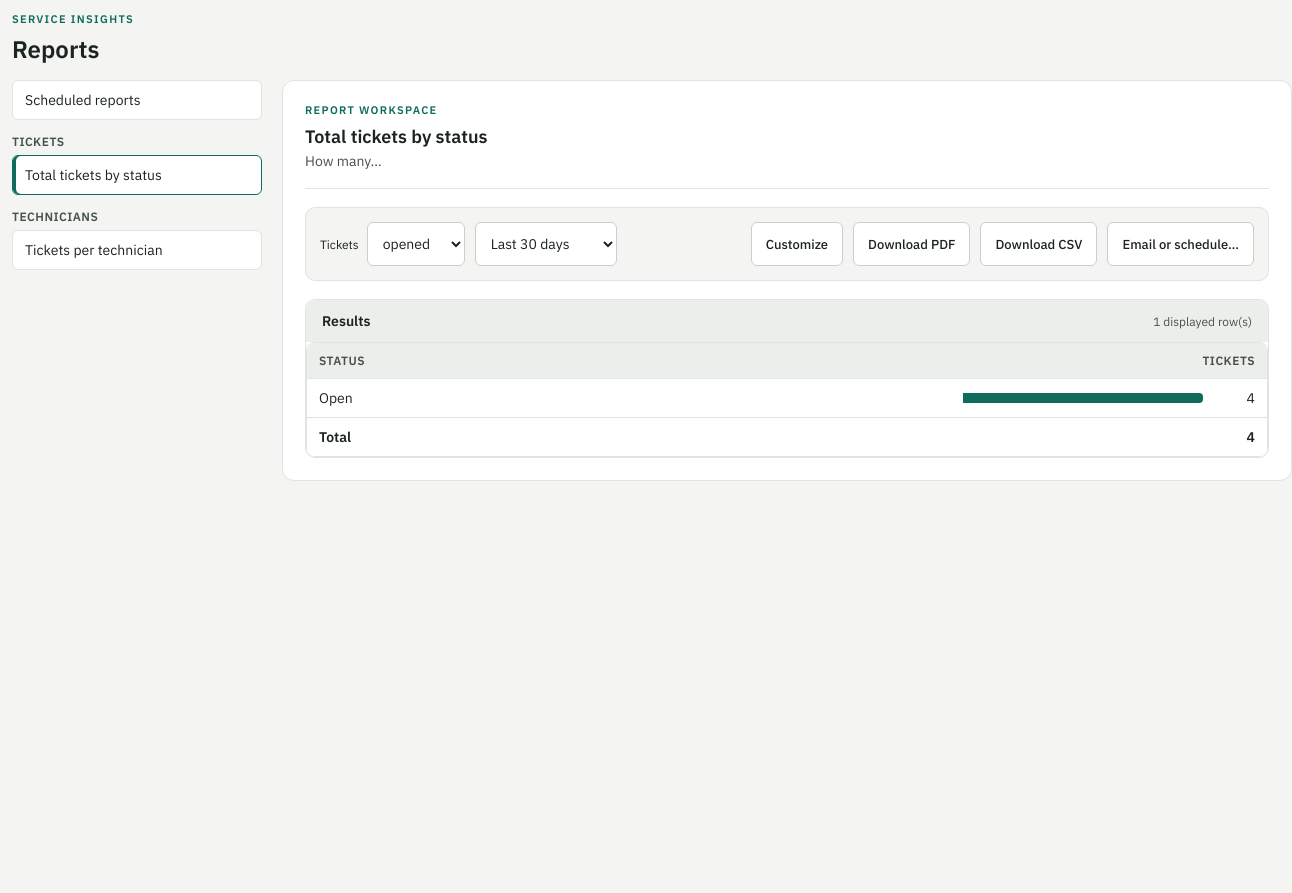
Test: email a report now to people picked or typed in
Expected: the table is shown, [307, 343, 1267, 456]
Click the button "Email or schedule…" at (1181, 244), box [1107, 222, 1254, 266]
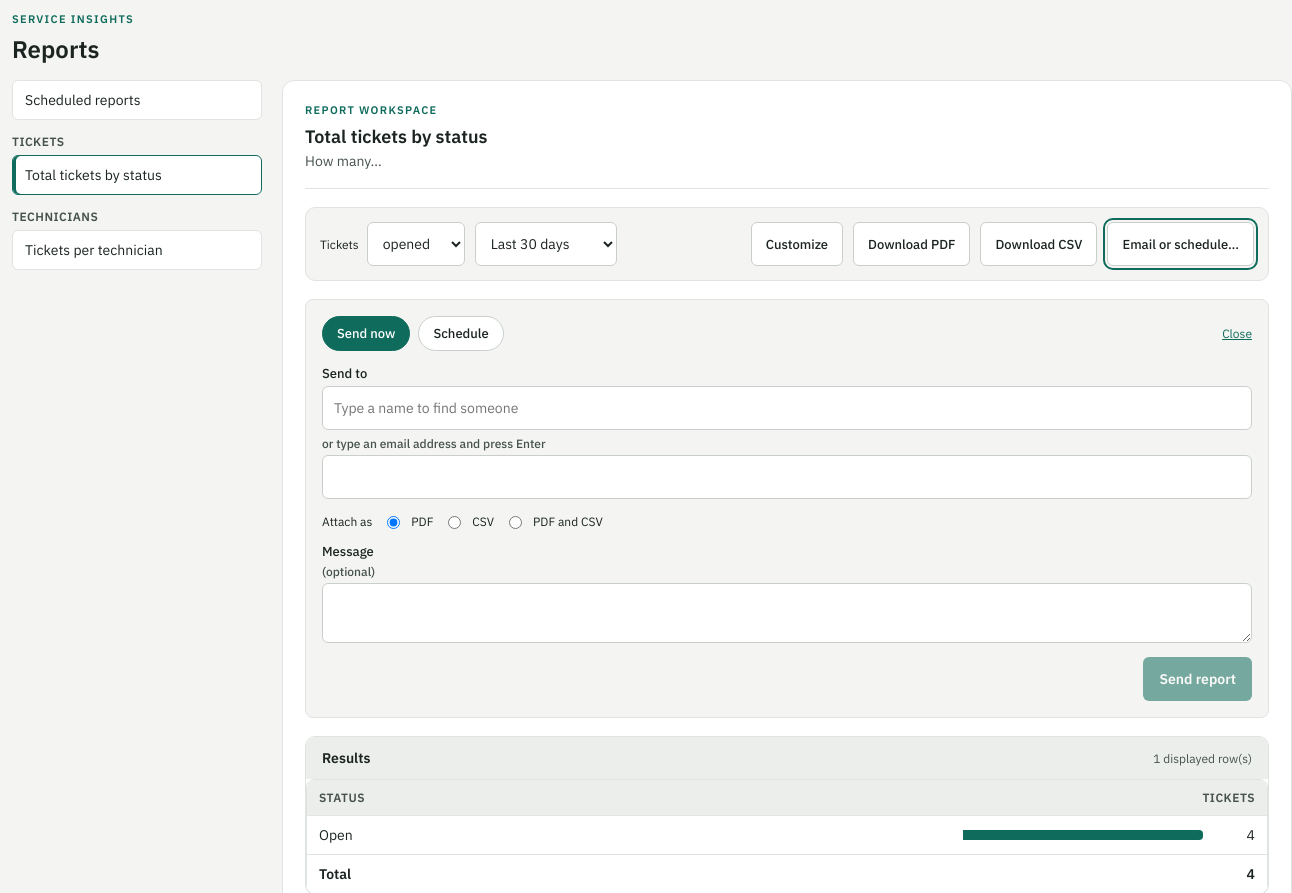
Type "osei" into the dropdown labelled "Send to" at (787, 408), box [322, 386, 1252, 430]
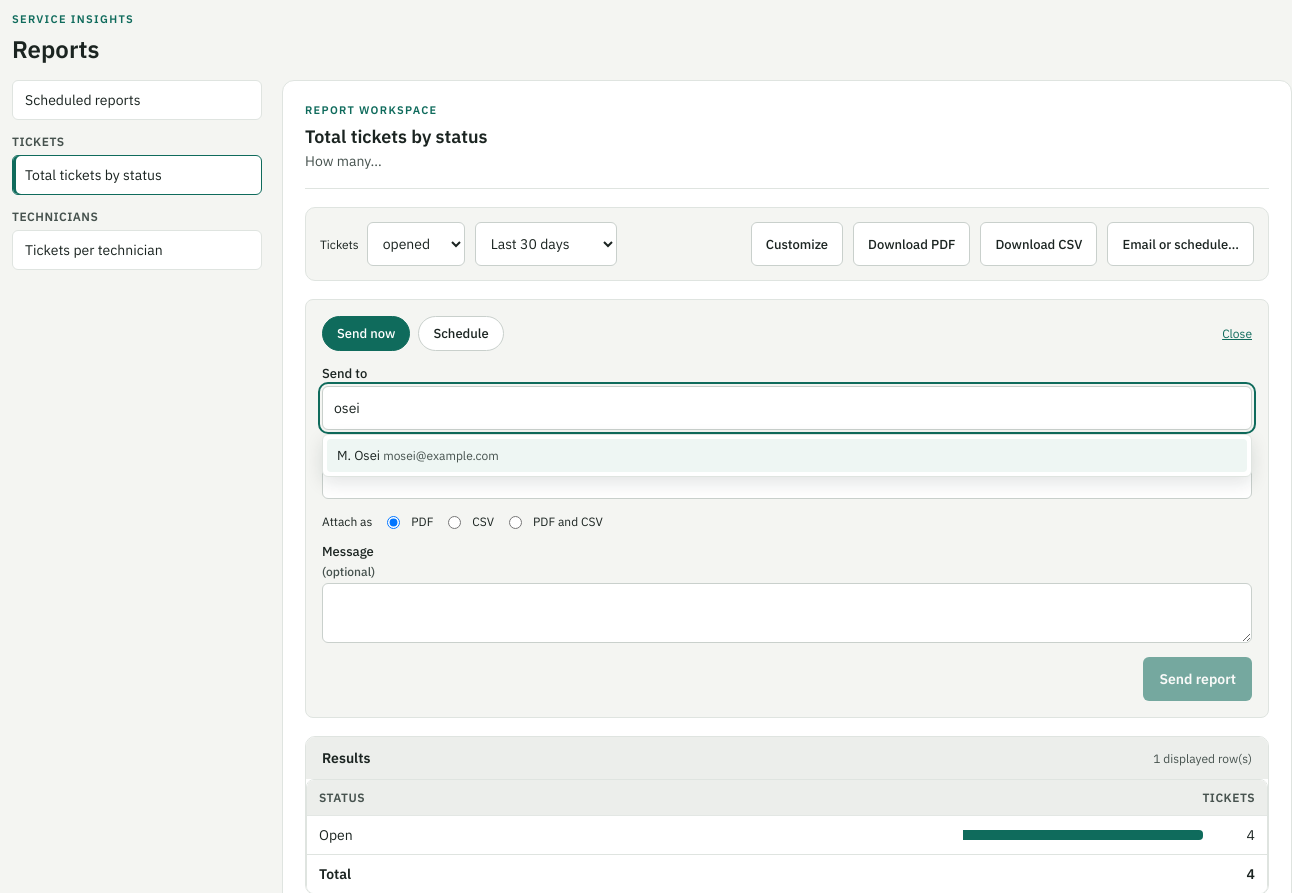
Click the option "M. Osei mosei@example.com" at (359, 456), box [327, 439, 1247, 472]
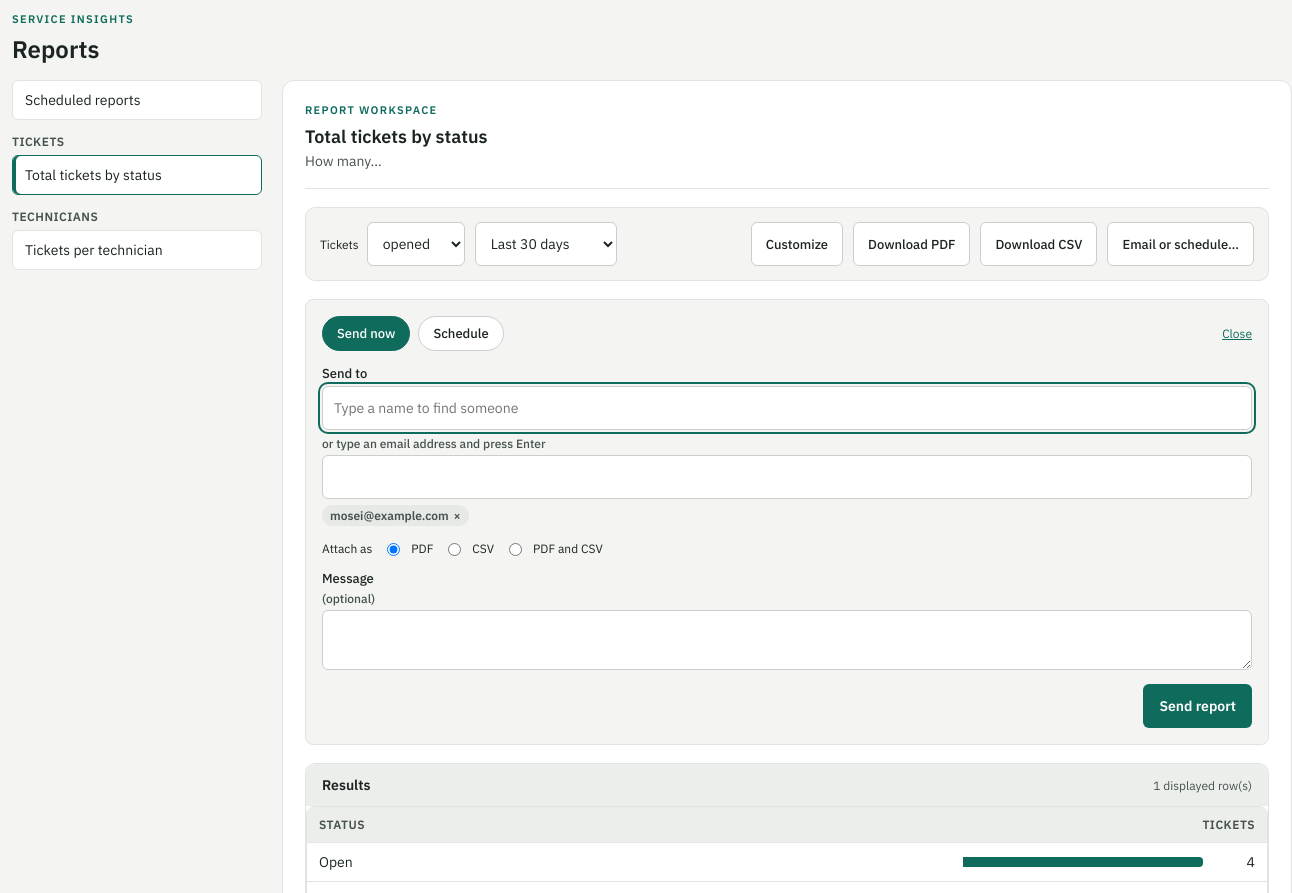
Type "boss@example.com" into the field labelled "email address" at (787, 477), box [322, 455, 1252, 499]
Then press Enter
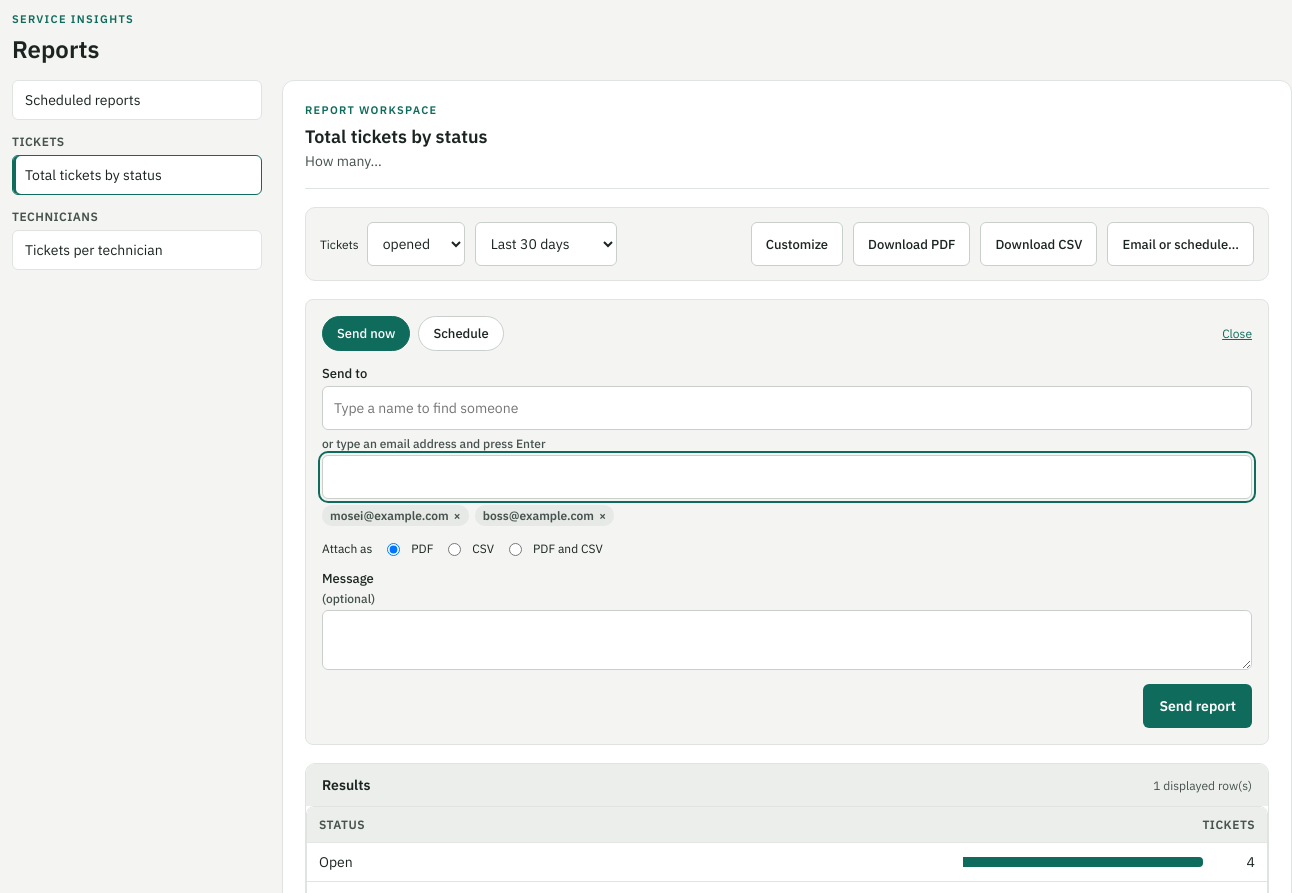
Expected: the list named "Recipients" shows "mosei@example.com", [330, 508, 449, 523]
Click the radio button labelled "PDF and CSV" at (516, 550), box [509, 543, 522, 556]
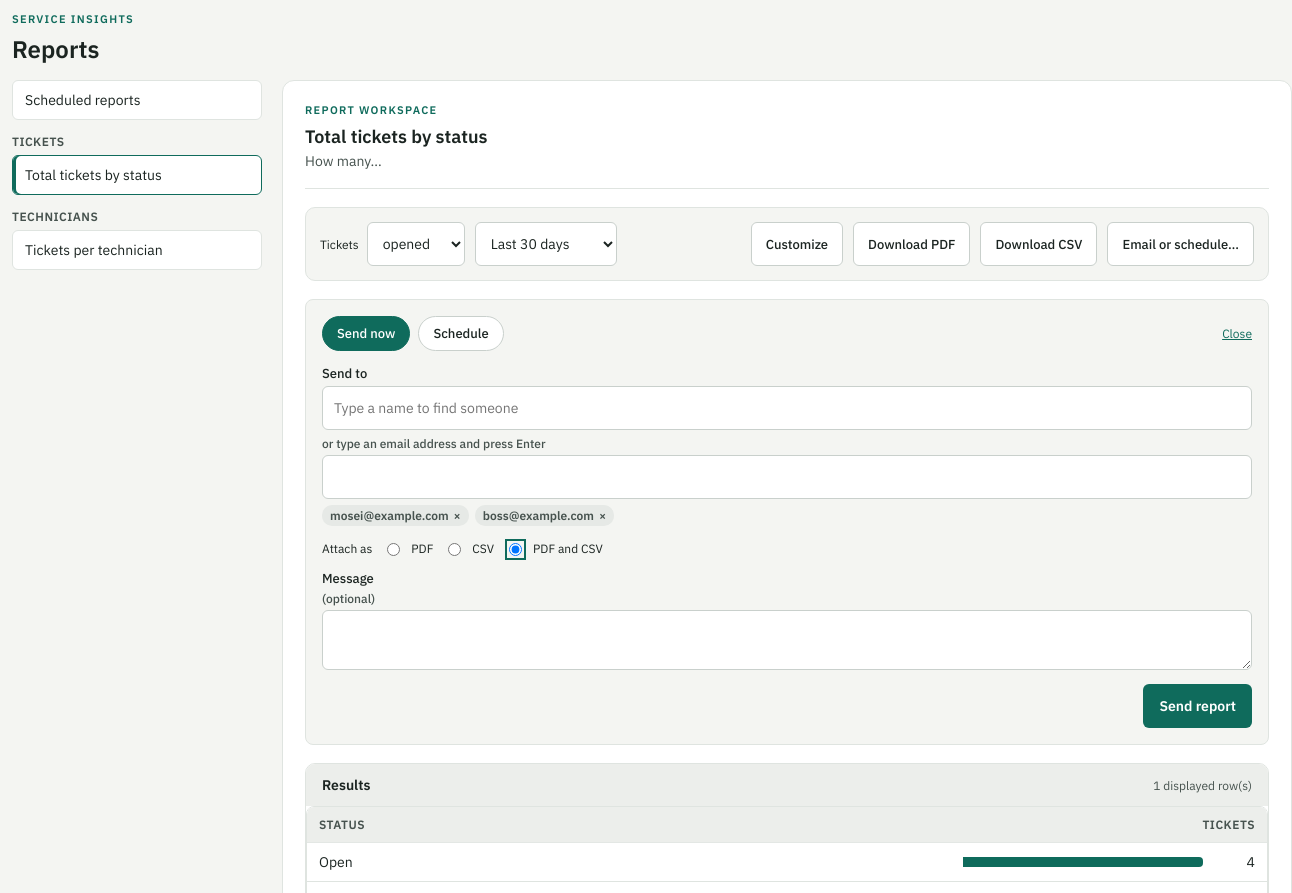
Click the button "Send report" at (1198, 706), box [1143, 684, 1252, 728]
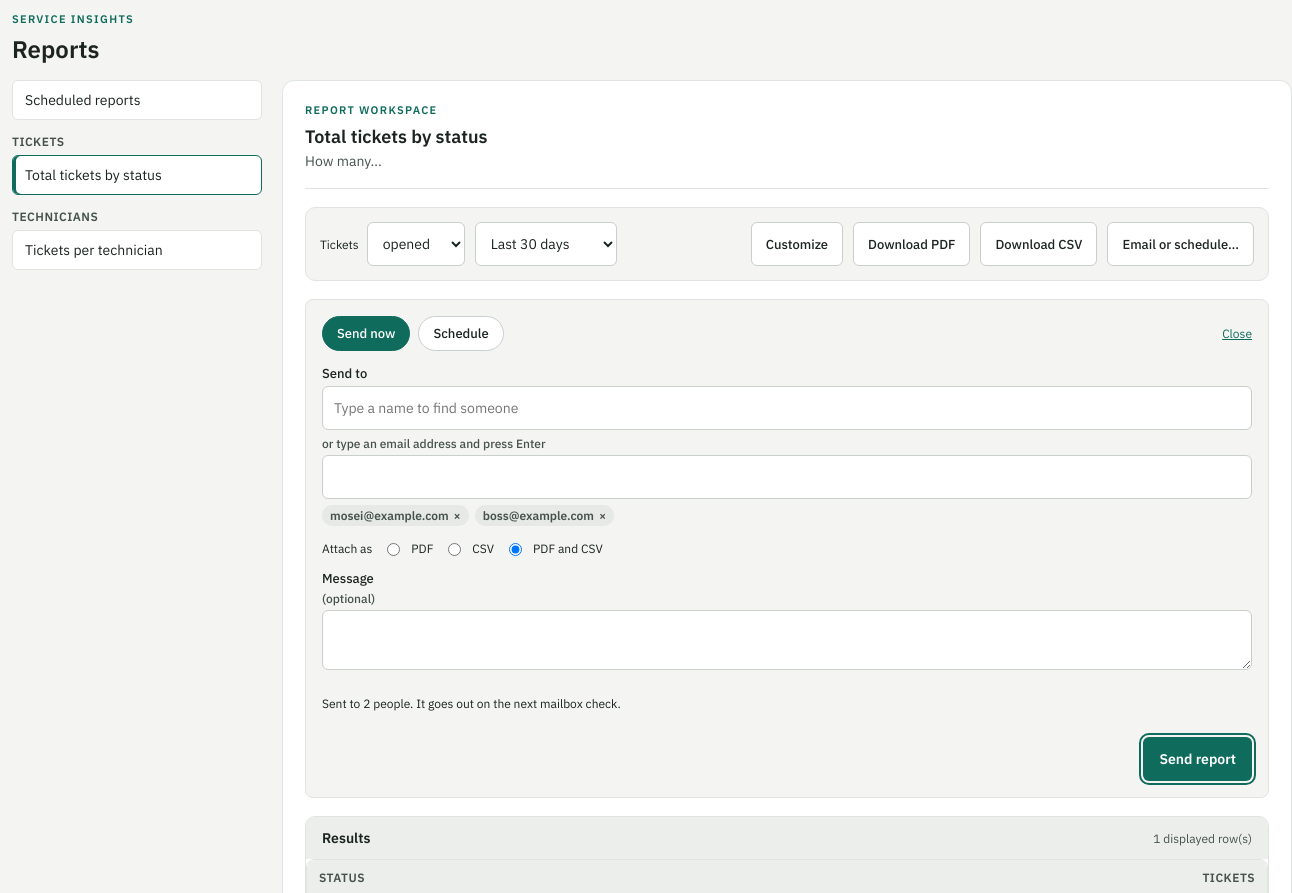
Expected: the text "Sent to 2 people. It goes out on the next mailbox check." is shown, [322, 696, 621, 711]
